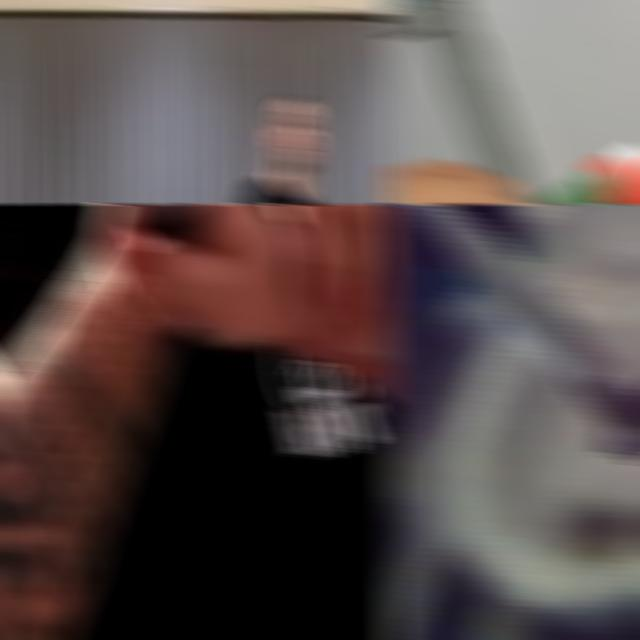Knife: (127, 204, 206, 243)
Knife_Handle: (399, 204, 640, 640), (383, 0, 640, 204), (122, 204, 324, 348)
